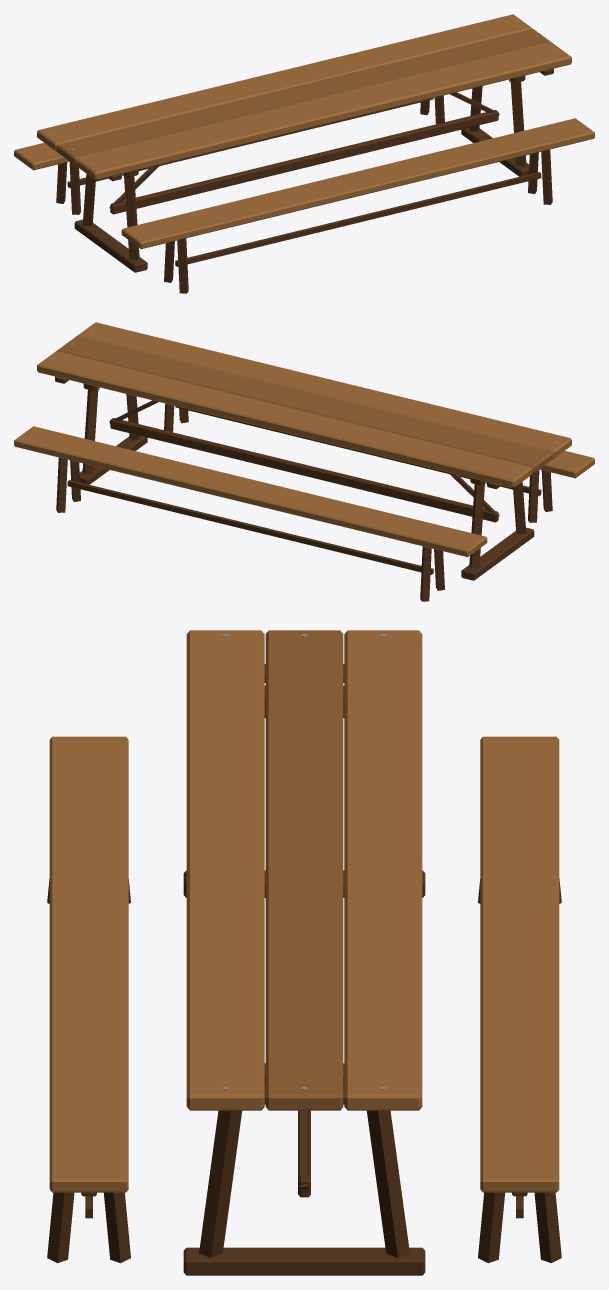
Rendered from table.glb.
3 views of the same model, one above another, from view 1: azimuth 30°, elevation 25°; view 2: azimuth 150°, elevation 25°; view 3: azimuth 270°, elevation 25° (orthographic). The views are drawn at different scales.
Visible parts, largest first — view 1: table_mesh; view 2: table_mesh; view 3: table_mesh.
Part boxes in pixels (x1=…): table_mesh: x1=14, y1=14, x2=594, y2=293; table_mesh: x1=14, y1=322, x2=594, y2=601; table_mesh: x1=47, y1=630, x2=561, y2=1275.
Size of the model in its own units: 4.2 by 0.9265 by 1.96.
